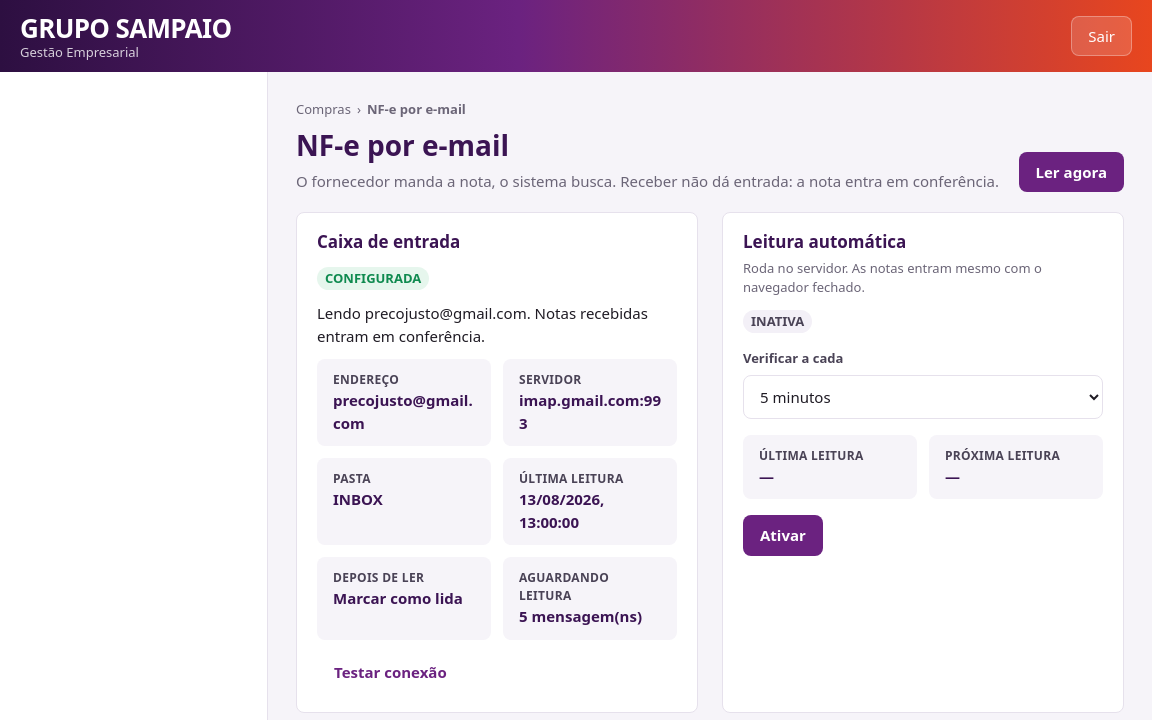
it: a caixa não entope, e a tela diz quantas faltam (GAP-PRD-035) › "Ler agora" diz quantas leu e quantas ainda restam na caixa
The width and height of the screenshot is (1152, 720).
Check: the text "5 mensagem(ns)" is shown, box x1=519 y1=605 x2=661 y2=628
Click the button "Ler agora" at [1071, 172], box x1=1018 y1=152 x2=1124 y2=192
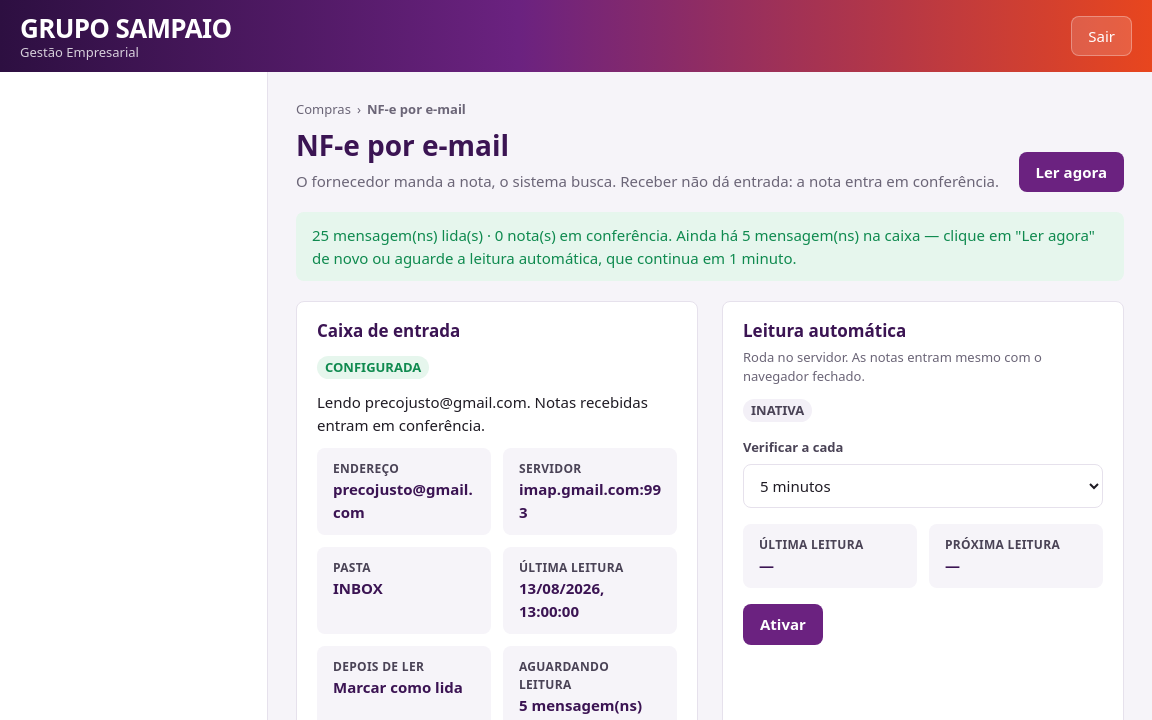
Check: the message shows "25 mensagem(ns) lida(s) · 0 nota(s) em conferência", box x1=312 y1=225 x2=1095 y2=268
Check: the message shows "Ainda há 5 mensagem(ns) na caixa", box x1=312 y1=225 x2=1095 y2=268
